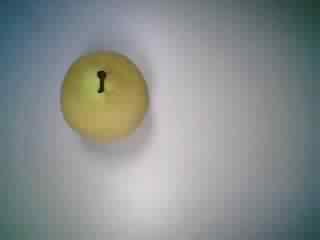pear: (46, 43, 155, 145)
